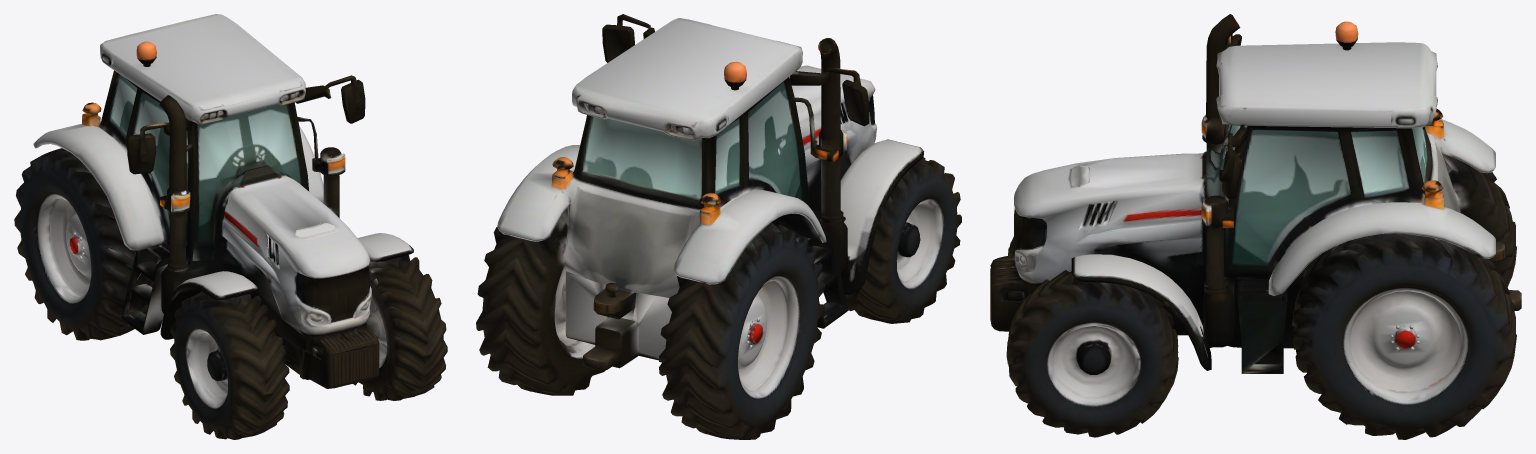
Rendered from Vehicles__a_tractor_b597d0f7_v1.cluster.glb.
3 renders of one model, left to right at view 1: azimuth 30°, elevation 25°; view 2: azimuth 150°, elevation 25°; view 3: azimuth 270°, elevation 25°, orthographic. The views are drawn at different scales.
Parts seen in each view (by area): view 1: material; view 2: material; view 3: material.
Part boxes in pixels (x1,y1,x2,y2): material: (14, 14, 447, 439); material: (476, 14, 961, 439); material: (990, 14, 1521, 439).
Size of the model in its own units: 1.1 by 1.33 by 1.9.
1 material, 1 textured.
